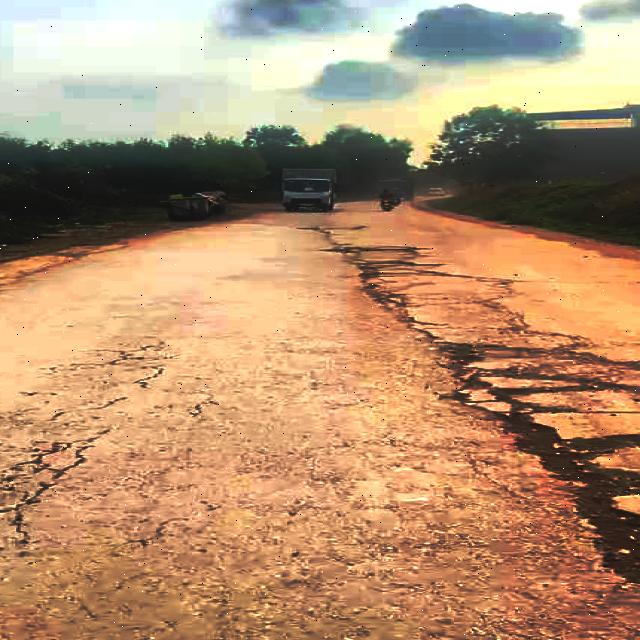pothole: (431, 333, 640, 588)
